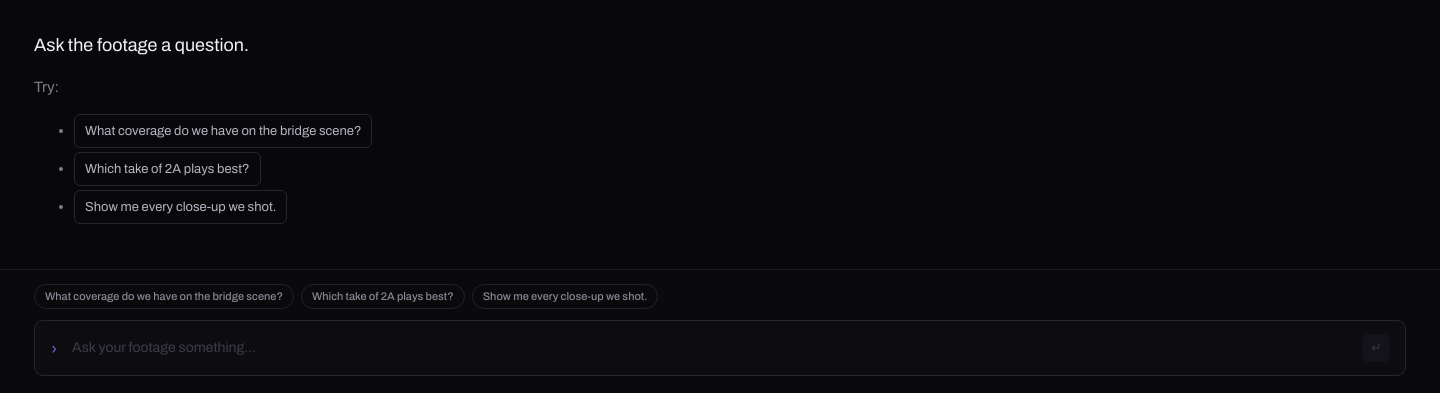
Scenario: SessionView › renders the evidence row from tool_evidence events
This screenshot has width=1440, height=393.
Type "anything" into the text box labelled "Ask your footage something".
click(710, 348); type("anything")  # box [70,336,1350,360]
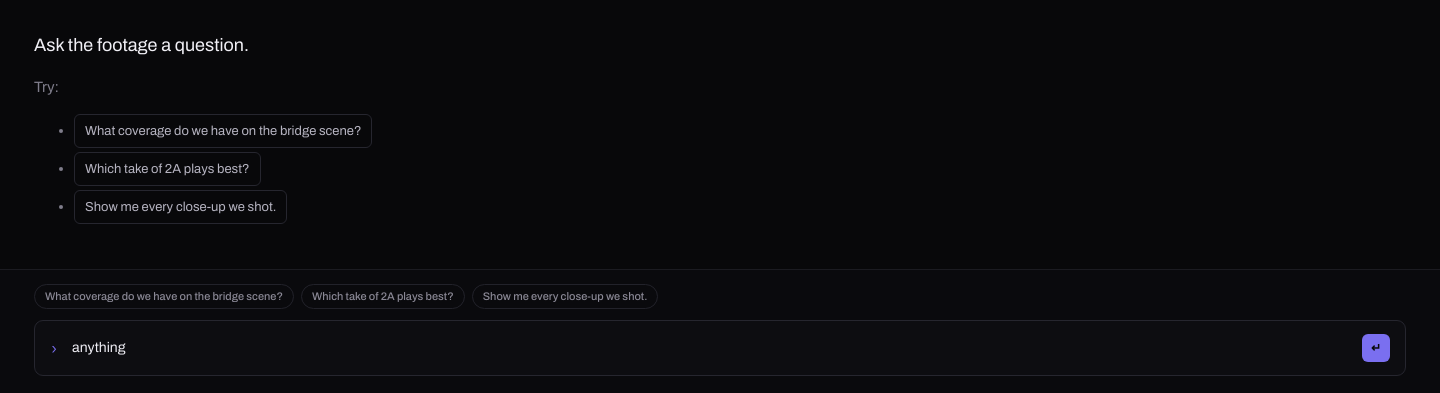
Press Enter in the text box named "Ask your footage something", box [70,336,1350,360]
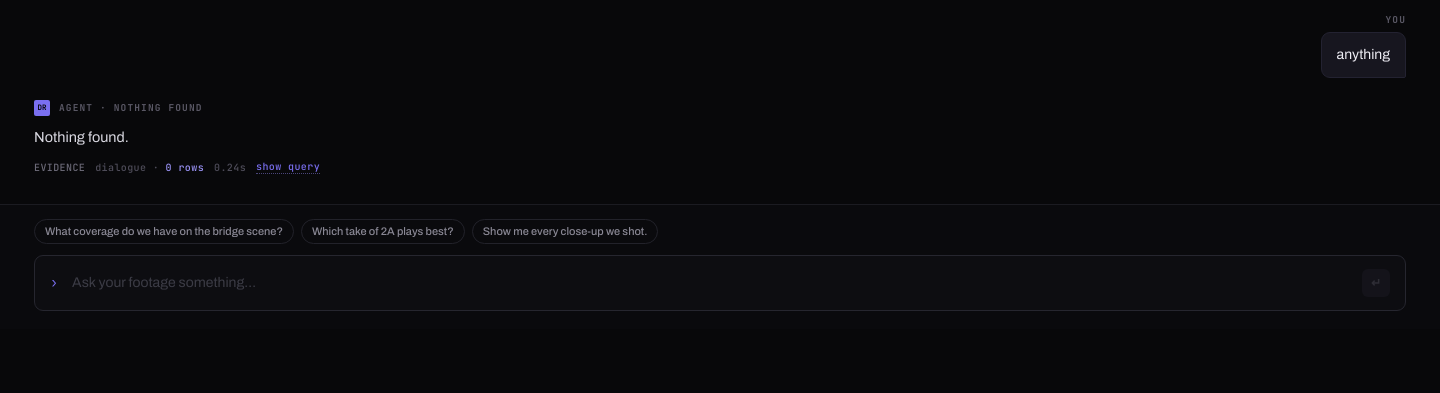
Expected: the heading "EVIDENCE" shows "dialogue · 0 rows", [34,160,320,174]
Expected: the text "0.24s" is shown, [214,162,246,172]
